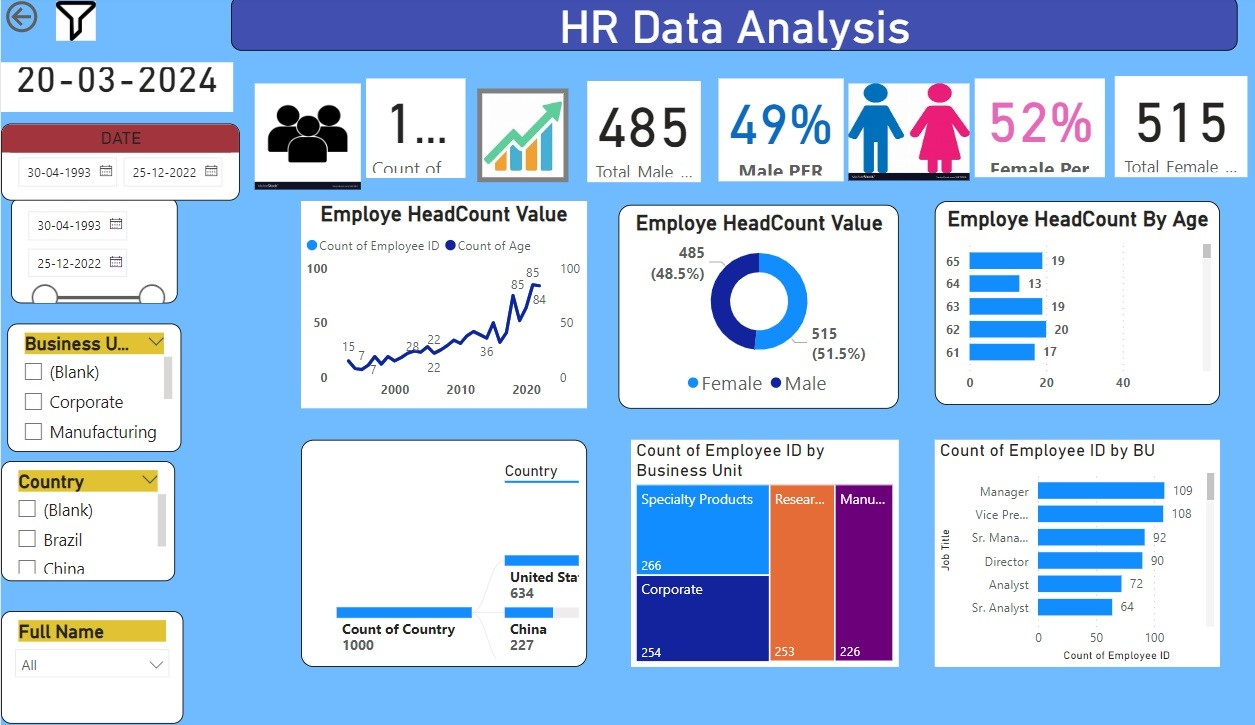

This screenshot's page, from the dashboard's own definition file:
{"tool":"powerbi","page":{"name":"HR Analysis","canvas":[1280,720],"ordinal":0},"visuals":[{"type":"card","fields":{"Values":["CountNonNull(Employee Data.Employee ID)"]},"box":[351,80.8,100.1,101.3],"z":0},{"type":"image","box":[230.4,82,119.4,108.5],"z":1000},{"type":"lineChart","title":"Employe HeadCount Value","fields":{"Category":["Employee Data.Hire Date.Variation.Date Hierarchy.Year"],"Y":["CountNonNull(Employee Data.Employee ID)"],"Y2":["CountNonNull(Employee Data.Age)"]},"box":[289.4,197.8,276.2,200.2],"z":2000},{"type":"donutChart","title":"Employe HeadCount Value","fields":{"Y":["CountNonNull(Employee Data.Employee ID)"],"Category":["Employee Data.Gender"]},"box":[595.8,201.4,270.2,196.6],"z":3000},{"type":"clusteredBarChart","title":"Employe HeadCount By Age","fields":{"Category":["Employee Data.Age"],"Y":["CountNonNull(Employee Data.Employee ID)"]},"box":[900.9,197.8,275,196.6],"z":4000},{"type":"decompositionTreeVisual","title":"Employe HeadCount  By Country","fields":{"Analyze":["CountNonNull(Employee Data.Country)"],"ExplainBy":["Employee Data.Country"]},"box":[289.4,428.1,276.2,219.5],"z":5000},{"type":"treemap","fields":{"Values":["CountNonNull(Employee Data.Employee ID)"],"Group":["Employee Data.Business Unit"]},"box":[607.8,428.1,258.1,219.5],"z":6000},{"type":"clusteredBarChart","title":"Count of Employee ID by BU","fields":{"Category":["Employee Data.Job Title"],"Y":["CountNonNull(Employee Data.Employee ID)"]},"box":[900.9,428.1,275,219.5],"z":7000},{"type":"image","box":[812.9,79.6,126.6,103.7],"z":8000},{"type":"card","fields":{"Values":["Employee Data.Female Per"]},"box":[939.5,79.6,125.4,95.3],"z":9000},{"type":"actionButton","box":[0,0,100,40],"z":10000},{"type":"card","fields":{"Values":["Employee Data.Male PER"]},"box":[692.3,79.6,120.6,98.9],"z":11000},{"type":"image","box":[459.5,89.2,88,90.5],"z":12000},{"type":"card","fields":{"Values":["Employee Data.Total_Male_Count"]},"box":[565.6,82,109.7,97.7],"z":13000},{"type":"card","fields":{"Values":["Employee Data.Total_Female_Count"]},"box":[1074.6,77.2,127.8,97.7],"z":14000},{"type":"slicer","fields":{"Values":["Employee Data.Business Unit"]},"box":[6,316,167.6,124.2],"z":15000},{"type":"textbox","box":[221.9,0,970.9,53.1],"z":16000},{"type":"slicer","fields":{"Values":["Employee Data.Country"]},"box":[0,448.6,167.6,115.8],"z":17000},{"type":"slicer","fields":{"Values":["Employee Data.Full Name"]},"box":[0,593.4,176.1,108.5],"z":18000},{"type":"slicer","fields":{"Values":["Employee Data.Hire Date"]},"box":[9.6,194.2,160.4,102.5],"z":19000},{"type":"slicer","title":"DATE","fields":{"Values":["Employee Data.Hire Date"]},"box":[0,123,230.4,74.8],"z":20000},{"type":"card","fields":{"Values":["Min(Query1.Last REFRESH)"]},"box":[864,672,320,48],"z":21000},{"type":"image","box":[22.9,0,121.8,119.4],"z":22000}]}

Visuals, with their boxes on the page's 1280x720 design canvas (x1, y1, x2, y2). These are canvas units, not pixel positions in the 1255x725 screenshot, which may show the page scaled, cropped or inside an application window:
card - CountNonNull(Employee Data.Employee ID): <region>351, 81, 451, 182</region>
image: <region>230, 82, 350, 190</region>
"Employe HeadCount Value" lineChart: <region>289, 198, 566, 398</region>
"Employe HeadCount Value" donutChart: <region>596, 201, 866, 398</region>
"Employe HeadCount By Age" clusteredBarChart: <region>901, 198, 1176, 394</region>
"Employe HeadCount  By Country" decompositionTreeVisual: <region>289, 428, 566, 648</region>
treemap - CountNonNull(Employee Data.Employee ID) x Employee Data.Business Unit: <region>608, 428, 866, 648</region>
"Count of Employee ID by BU" clusteredBarChart: <region>901, 428, 1176, 648</region>
image: <region>813, 80, 940, 183</region>
card - Employee Data.Female Per: <region>940, 80, 1065, 175</region>
actionButton: <region>0, 0, 100, 40</region>
card - Employee Data.Male PER: <region>692, 80, 813, 178</region>
image: <region>460, 89, 548, 180</region>
card - Employee Data.Total_Male_Count: <region>566, 82, 675, 180</region>
card - Employee Data.Total_Female_Count: <region>1075, 77, 1202, 175</region>
slicer - Employee Data.Business Unit: <region>6, 316, 174, 440</region>
textbox: <region>222, 0, 1193, 53</region>
slicer - Employee Data.Country: <region>0, 449, 168, 564</region>
slicer - Employee Data.Full Name: <region>0, 593, 176, 702</region>
slicer - Employee Data.Hire Date: <region>10, 194, 170, 297</region>
"DATE" slicer: <region>0, 123, 230, 198</region>
card - Min(Query1.Last REFRESH): <region>864, 672, 1184, 720</region>
image: <region>23, 0, 145, 119</region>
